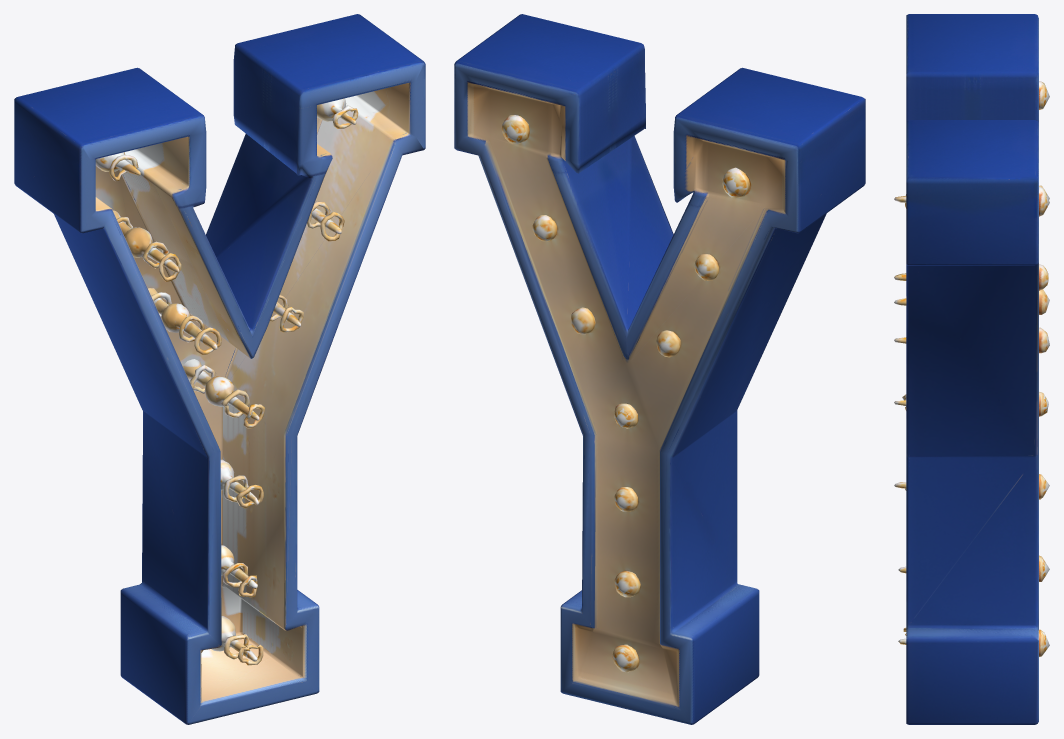
File: Letter_y.glb
3 views of the same model, side by side, from view 1: azimuth 30°, elevation 25°; view 2: azimuth 150°, elevation 25°; view 3: azimuth 270°, elevation 25° (orthographic).
Parts seen in each view (by area): view 1: Mesh_0; view 2: Mesh_0; view 3: Mesh_0.
Part boxes in pixels (left/top/right/bottom): Mesh_0: left=14, top=14, right=425, bottom=724; Mesh_0: left=454, top=14, right=865, bottom=724; Mesh_0: left=894, top=14, right=1049, bottom=724.
Size of the model in its own units: 0.5461 by 0.914 by 0.2158.
Materials: 1 (1 with a texture image).
